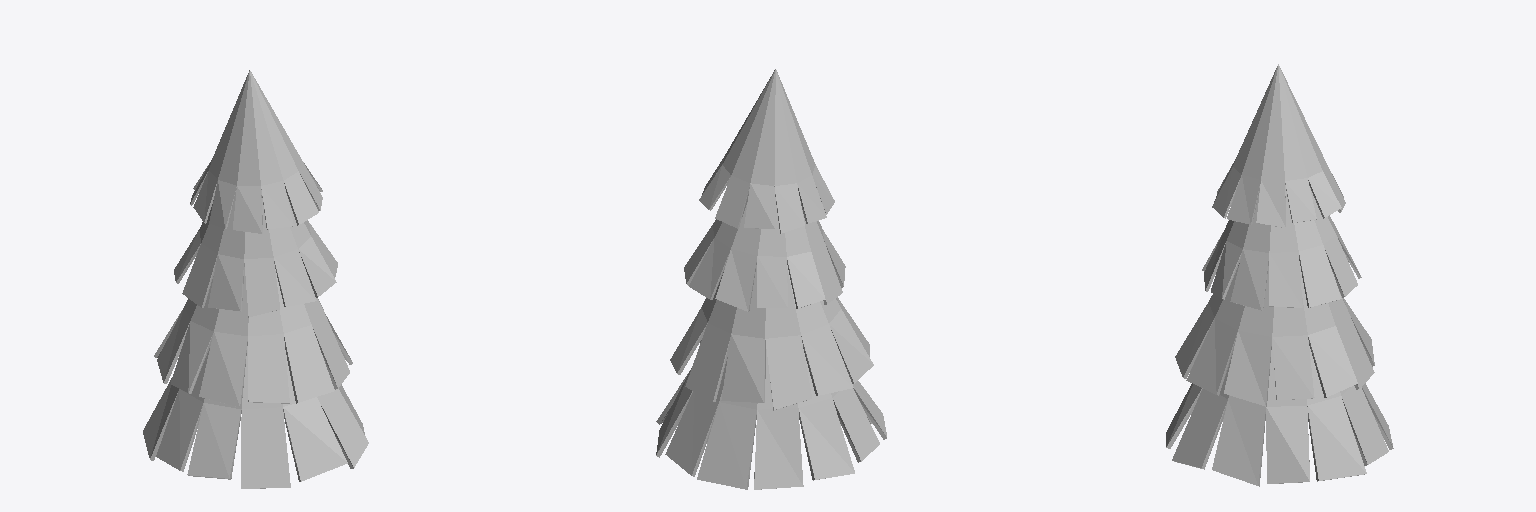
File: tree_leaves.obj
3 renders of one model, left to right at view 1: azimuth 30°, elevation 25°; view 2: azimuth 150°, elevation 25°; view 3: azimuth 270°, elevation 25°, orthographic.
Visible parts, largest first — view 1: NatureFreePack1; view 2: NatureFreePack1; view 3: NatureFreePack1.
Boxes of the visible parts, box(x1,y1,x2,y2) form: NatureFreePack1: box(143, 70, 368, 488); NatureFreePack1: box(656, 69, 886, 489); NatureFreePack1: box(1166, 64, 1393, 486).
Size of the model in its own units: 6.55 by 12.21 by 6.65.